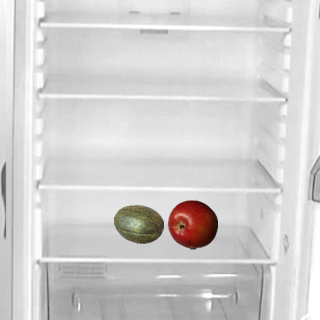Apple Braeburn: (167, 199, 217, 249)
Melon Piel de Sapo: (113, 199, 163, 249)
